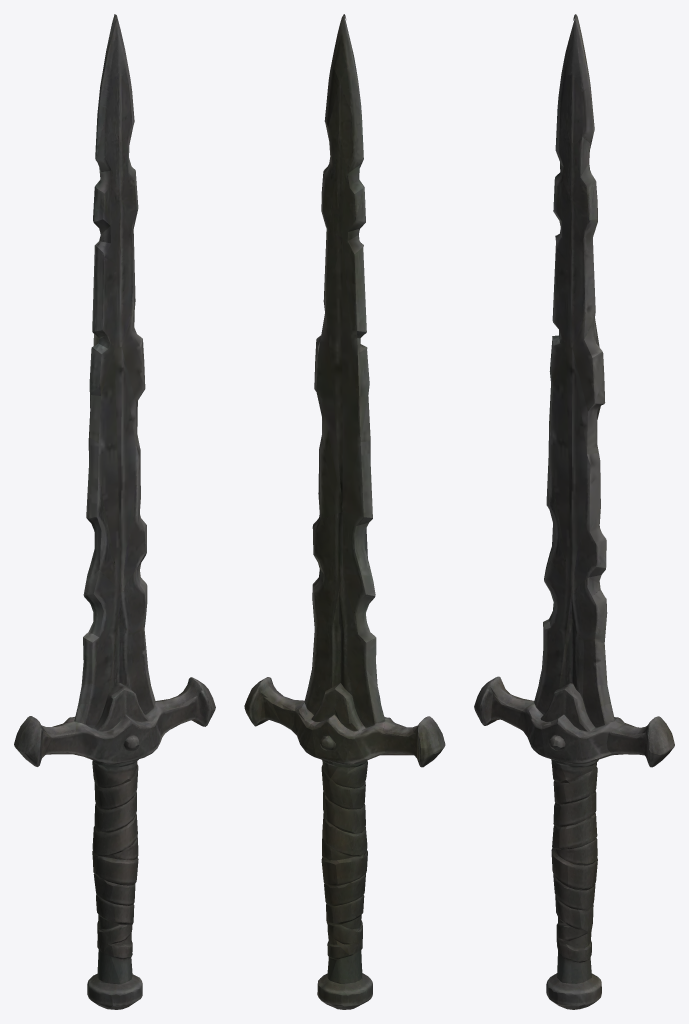
The model's file is sword-lQlzyVFm.glb.
The picture shows the model from 3 angles, left to right: view 1: azimuth 30°, elevation 25°; view 2: azimuth 150°, elevation 25°; view 3: azimuth 330°, elevation 25°; orthographic projection.
Parts seen in each view (by area): view 1: sword; view 2: sword; view 3: sword.
Part boxes in pixels (x1,y1,x2,y2): sword: (14,14,215,1009); sword: (244,14,445,1009); sword: (474,14,674,1009).
Bounding box in the file's own units: 0.2045 × 1 × 0.0762.
1 material, 1 textured.
